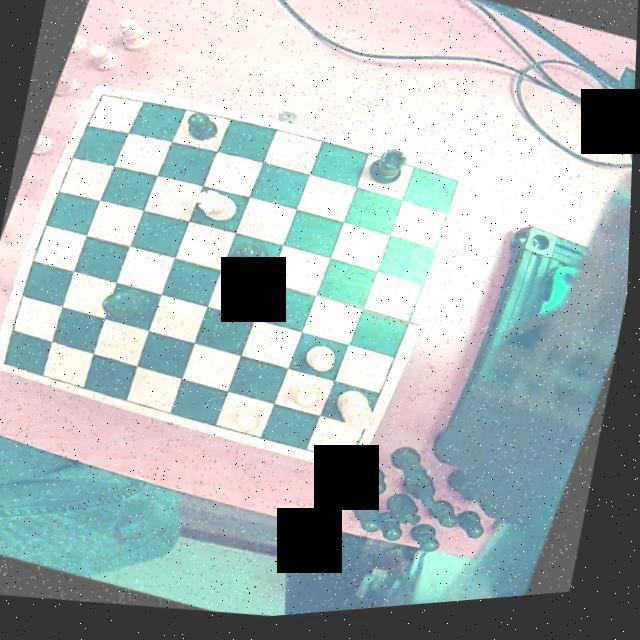chess-table-corners: (439, 176, 472, 208), (340, 448, 370, 478), (88, 86, 116, 114), (0, 350, 27, 376)
